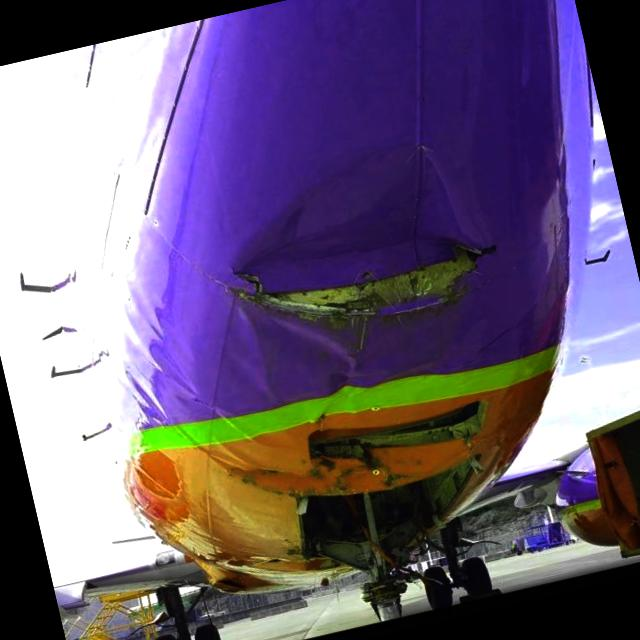dent: (208, 138, 474, 304), (265, 300, 364, 388)
